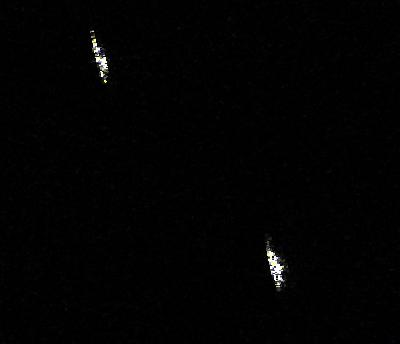ship: (87, 32, 112, 84), (263, 241, 287, 289)
